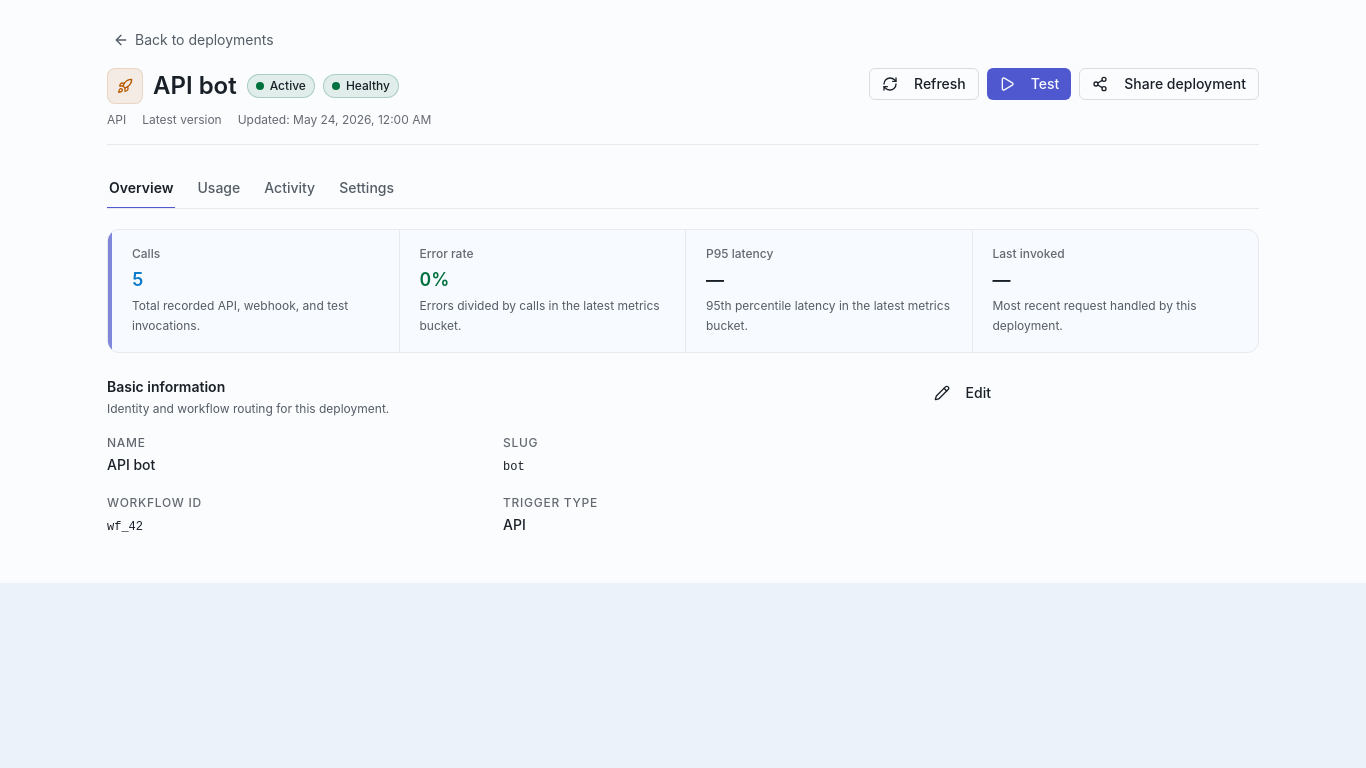
Test: <DeploymentDetailPage> › confirms API-key rotation and requires acknowledging the one-time secret
Expected: the heading "API bot" is shown, x1=153 y1=70 x2=237 y2=102
Click the tab "Settings" at (367, 189), box x1=337 y1=169 x2=396 y2=209
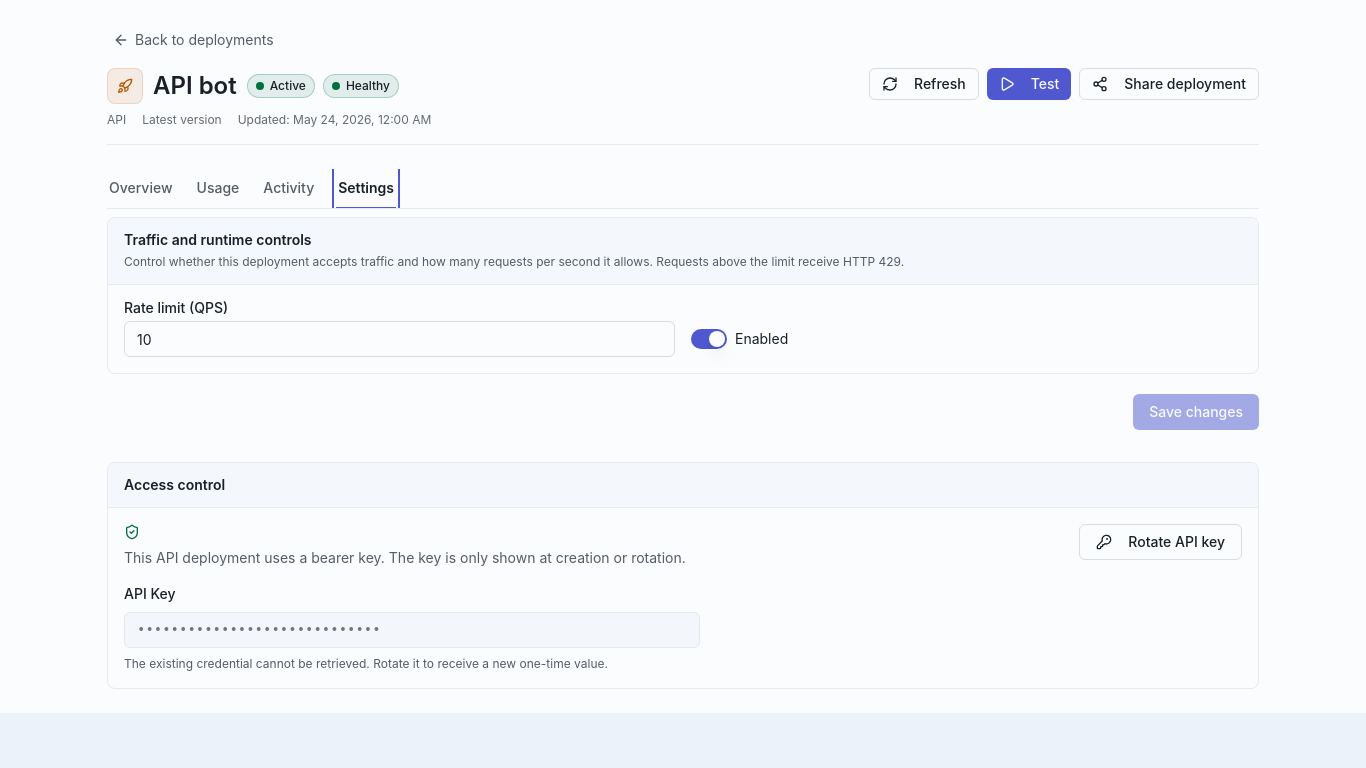
Click the button "Rotate API key" at (1161, 542), box x1=1079 y1=524 x2=1242 y2=560
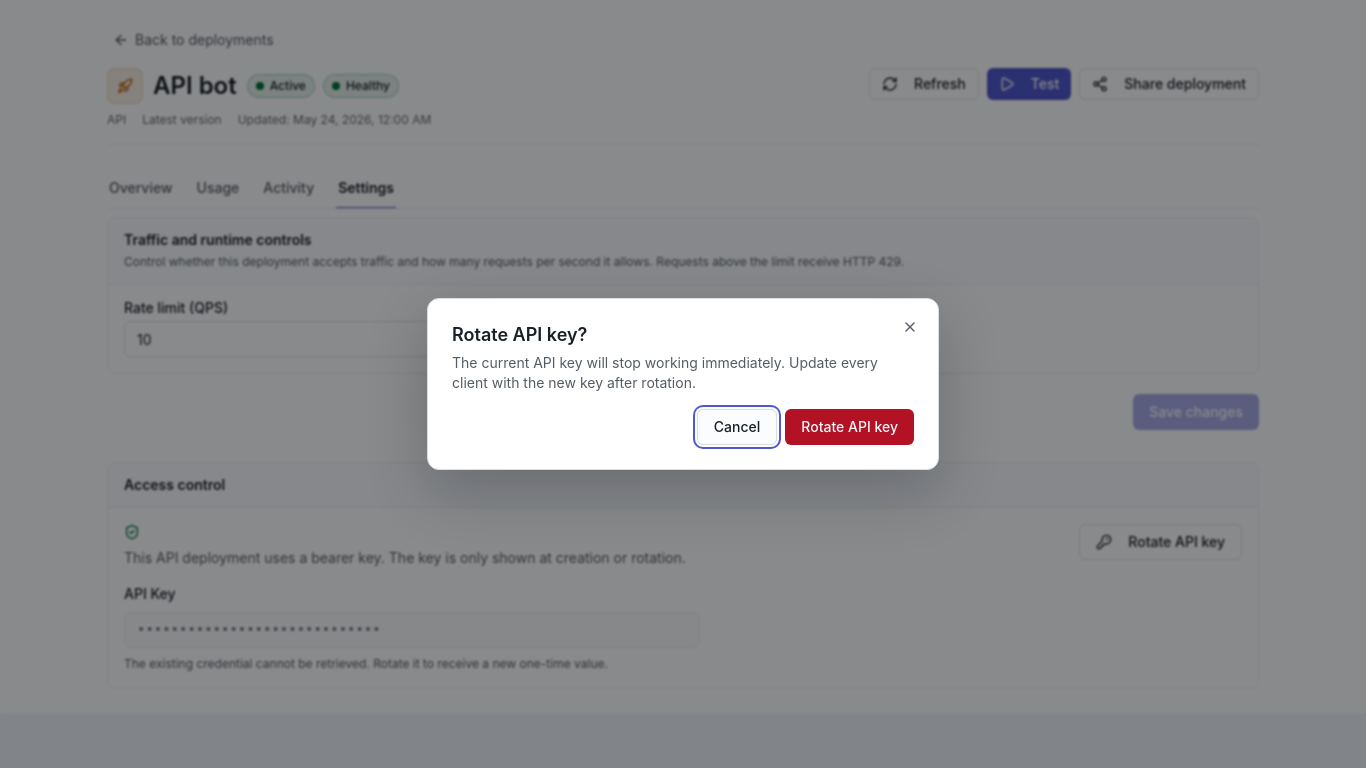
Result: the text "current API key will stop working immediately" is shown at x1=452 y1=354 x2=878 y2=391
Click the button "Cancel" at (737, 427), box x1=697 y1=409 x2=777 y2=445
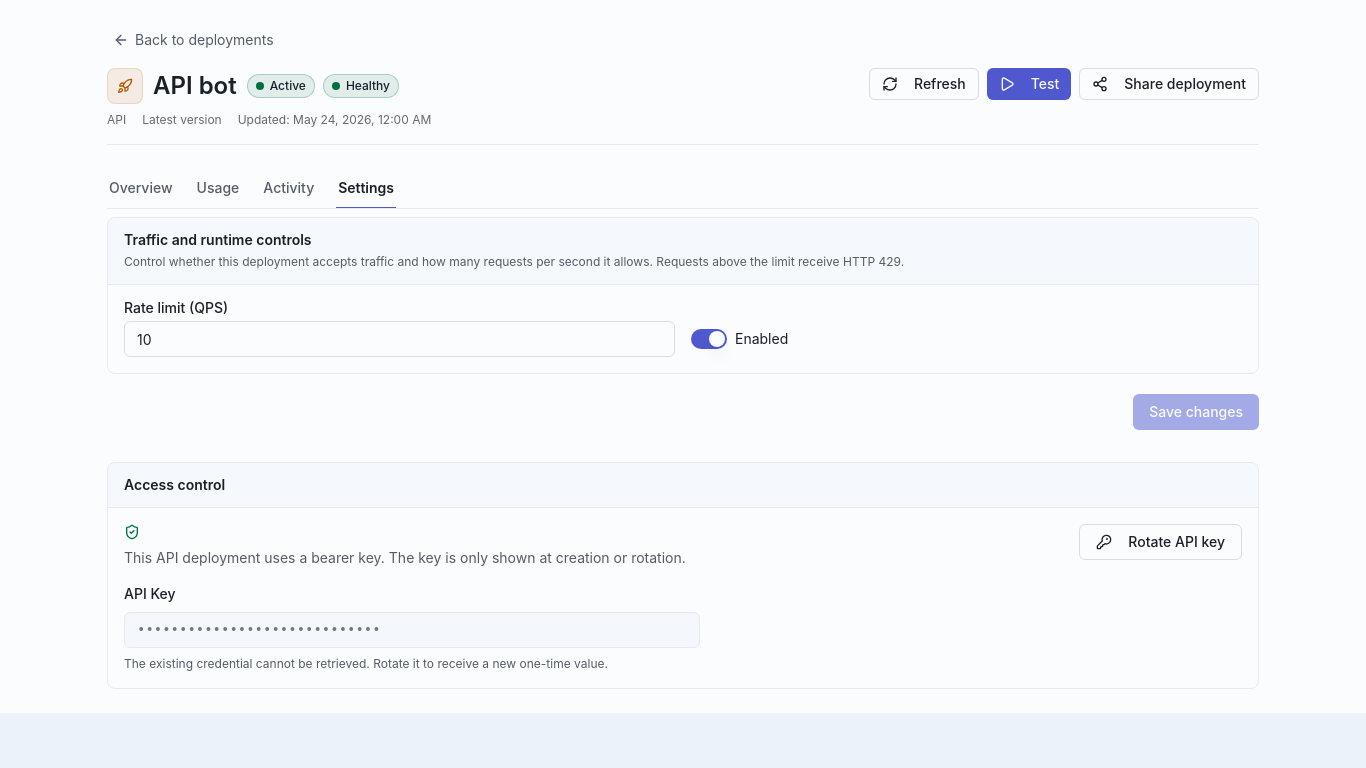
Click the button "Rotate API key" at (1161, 542), box x1=1079 y1=524 x2=1242 y2=560
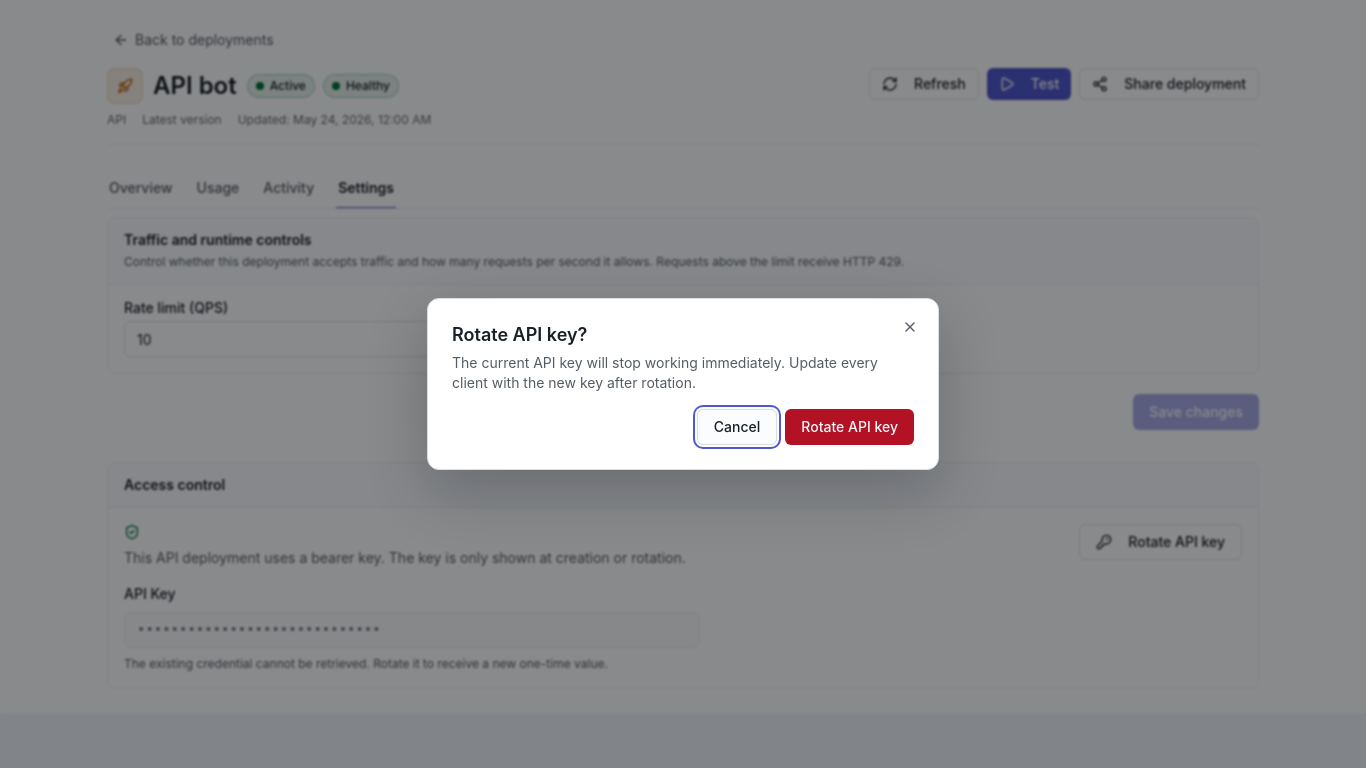
Click the button "Rotate API key" at (850, 427), box x1=785 y1=409 x2=914 y2=445
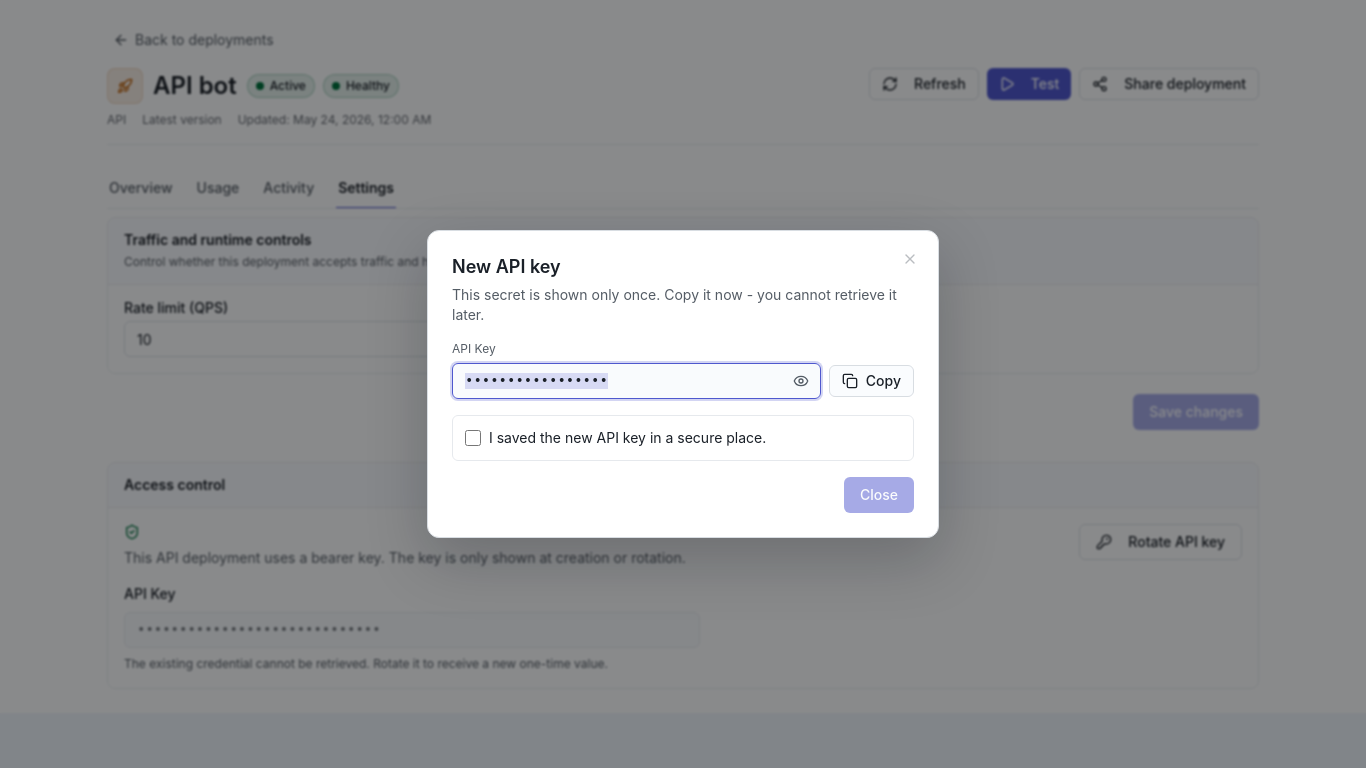
Result: the heading "New API key" is shown at x1=452 y1=256 x2=561 y2=277
Result: the button "Close" is disabled at x1=844 y1=477 x2=914 y2=513
Click the checkbox labelled "I saved the new API key in a secure place." at (473, 438), box x1=465 y1=430 x2=481 y2=446
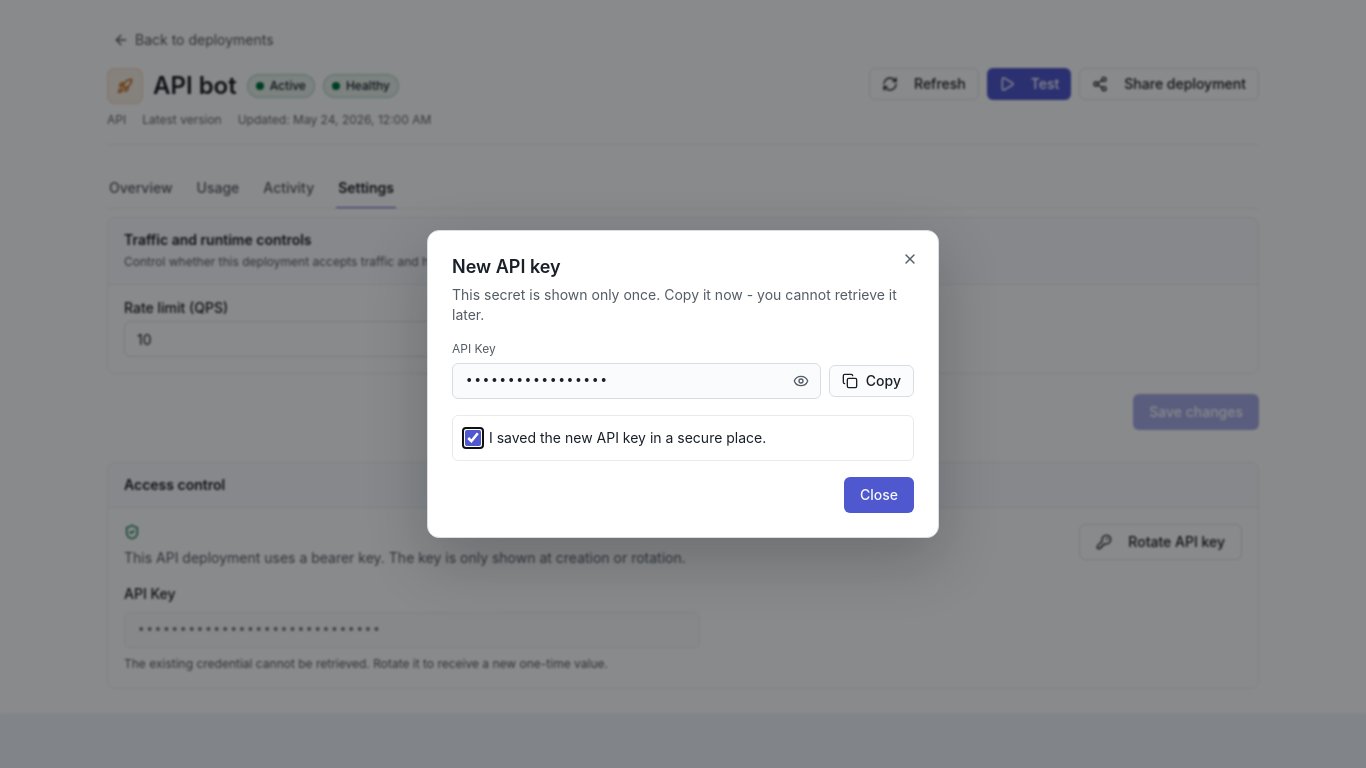
Result: the button "Close" is enabled at x1=844 y1=477 x2=914 y2=513
